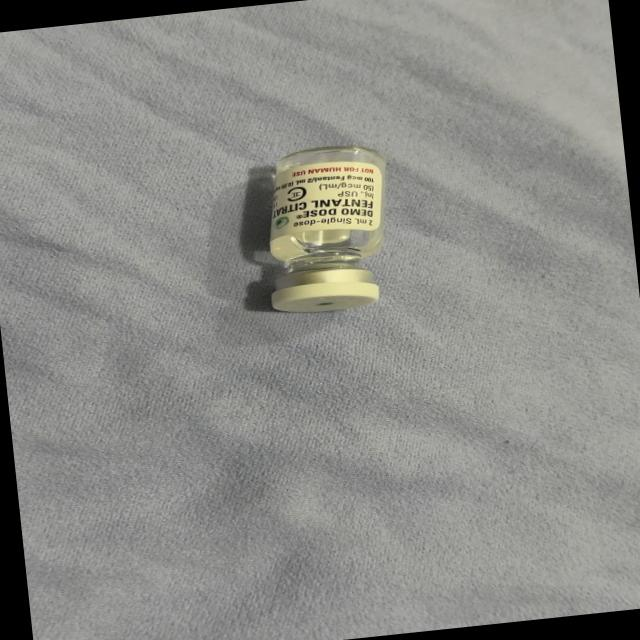fentanl_citrat: (254, 143, 398, 314)
